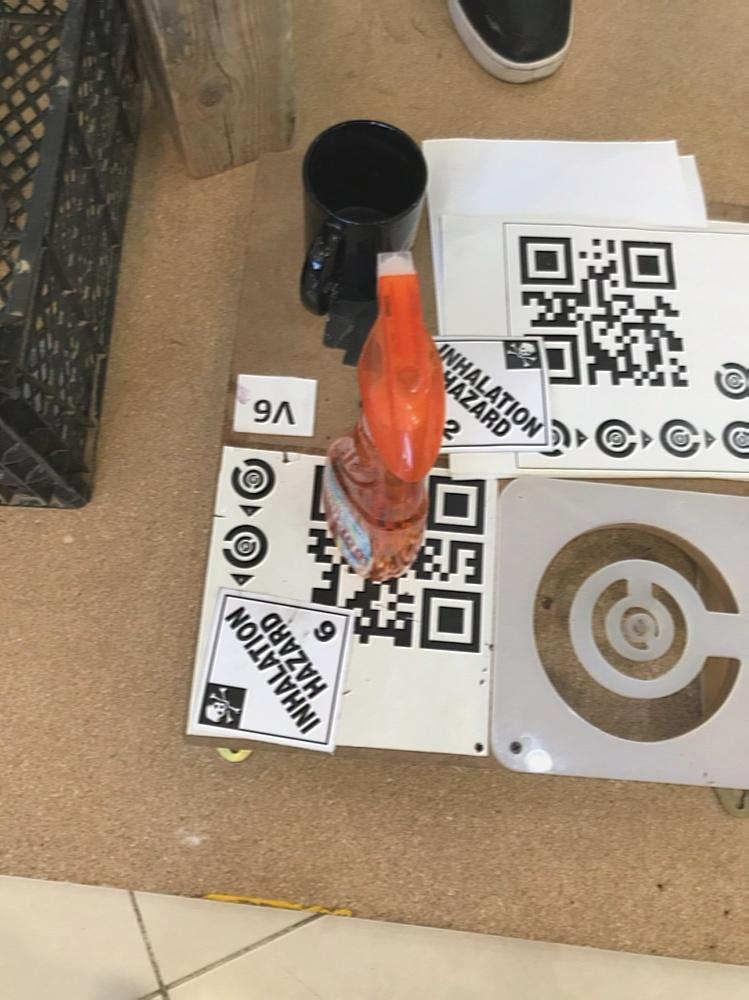poison: (185, 586, 350, 756), (418, 338, 550, 448)
